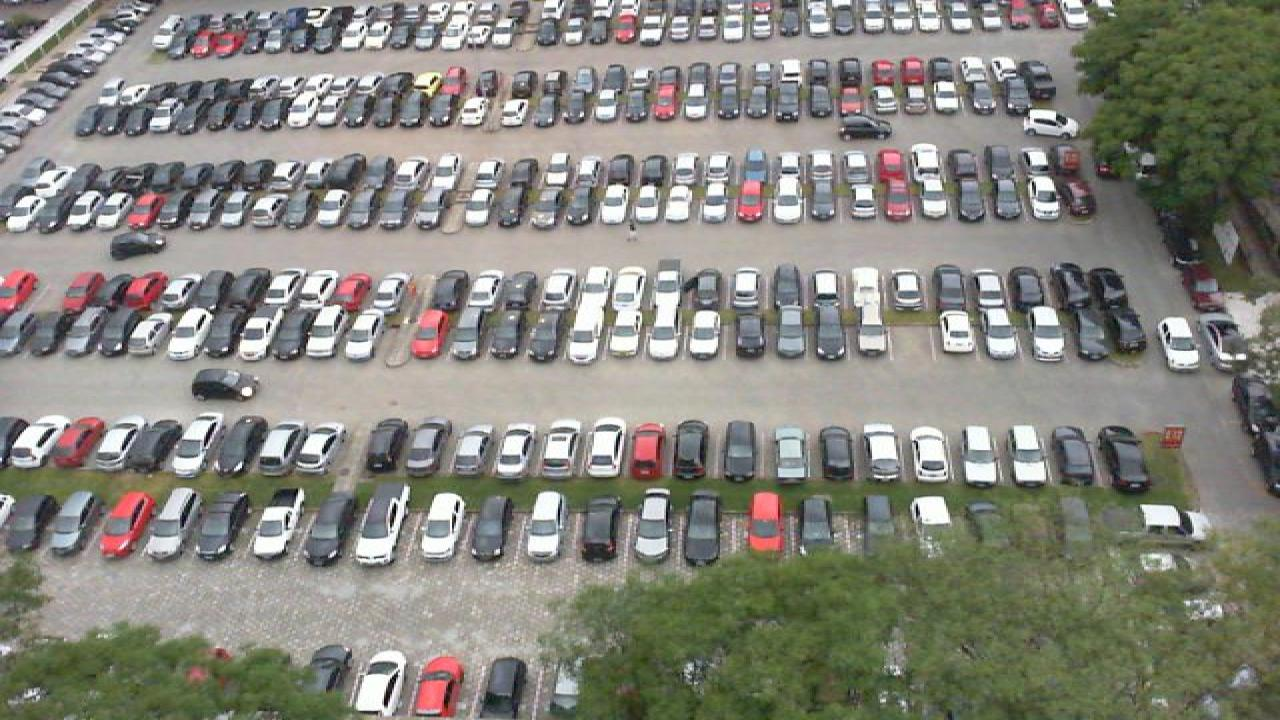Car: (140, 487, 202, 564), (348, 488, 408, 567), (350, 647, 410, 720), (248, 490, 304, 564), (414, 490, 468, 562), (1096, 423, 1152, 492), (4, 415, 74, 470), (36, 490, 96, 554), (96, 490, 152, 557), (412, 652, 466, 720), (302, 496, 354, 565), (300, 644, 356, 708), (630, 487, 678, 558), (522, 489, 568, 562), (96, 418, 158, 472), (178, 414, 232, 475), (196, 492, 244, 560), (1050, 424, 1100, 488), (220, 414, 270, 477), (470, 494, 516, 562), (576, 495, 622, 563), (680, 495, 724, 566), (1004, 422, 1052, 487), (480, 655, 528, 720), (538, 416, 588, 478), (846, 494, 896, 556), (960, 422, 1006, 487), (670, 420, 718, 482), (292, 422, 346, 477), (404, 416, 452, 477), (906, 423, 954, 484), (254, 421, 306, 477), (906, 493, 956, 551), (746, 489, 788, 558), (722, 419, 766, 483), (144, 416, 196, 470), (114, 307, 166, 361), (494, 422, 544, 478), (582, 420, 628, 480), (30, 305, 82, 358), (1198, 315, 1246, 372), (274, 303, 320, 362), (56, 416, 108, 468), (68, 308, 120, 359), (450, 424, 500, 477), (814, 424, 858, 484), (234, 305, 282, 360), (360, 418, 408, 472), (0, 495, 46, 551), (1026, 306, 1072, 362), (1156, 316, 1202, 372), (768, 423, 810, 484), (860, 423, 902, 484), (526, 305, 570, 363), (1102, 302, 1146, 360), (164, 306, 210, 361), (200, 304, 246, 359), (346, 306, 390, 363), (1072, 303, 1116, 360), (792, 494, 832, 556), (566, 304, 608, 363), (606, 305, 648, 364), (978, 305, 1022, 361), (484, 307, 528, 362), (684, 306, 726, 363), (310, 306, 354, 360), (406, 306, 450, 360), (936, 308, 980, 362), (628, 421, 668, 480), (810, 302, 850, 361), (0, 307, 46, 358), (850, 302, 890, 360), (772, 302, 810, 361), (730, 304, 770, 360), (446, 306, 486, 361), (1050, 261, 1092, 311), (648, 304, 684, 362), (766, 263, 806, 312), (648, 258, 684, 312), (968, 266, 1010, 312), (928, 264, 968, 312), (60, 271, 110, 309), (94, 269, 140, 310), (686, 266, 726, 312), (724, 266, 764, 312), (846, 266, 886, 312), (1010, 266, 1050, 312), (1086, 264, 1126, 310), (574, 266, 612, 312), (610, 266, 648, 312), (808, 266, 846, 312), (888, 266, 926, 312), (124, 271, 166, 312), (166, 267, 208, 308), (432, 268, 470, 312), (502, 269, 540, 313), (538, 268, 576, 312), (0, 269, 40, 309), (334, 271, 372, 313), (200, 267, 238, 308), (468, 270, 504, 313), (236, 266, 272, 308), (300, 270, 336, 312), (372, 268, 404, 312), (270, 269, 304, 308)
